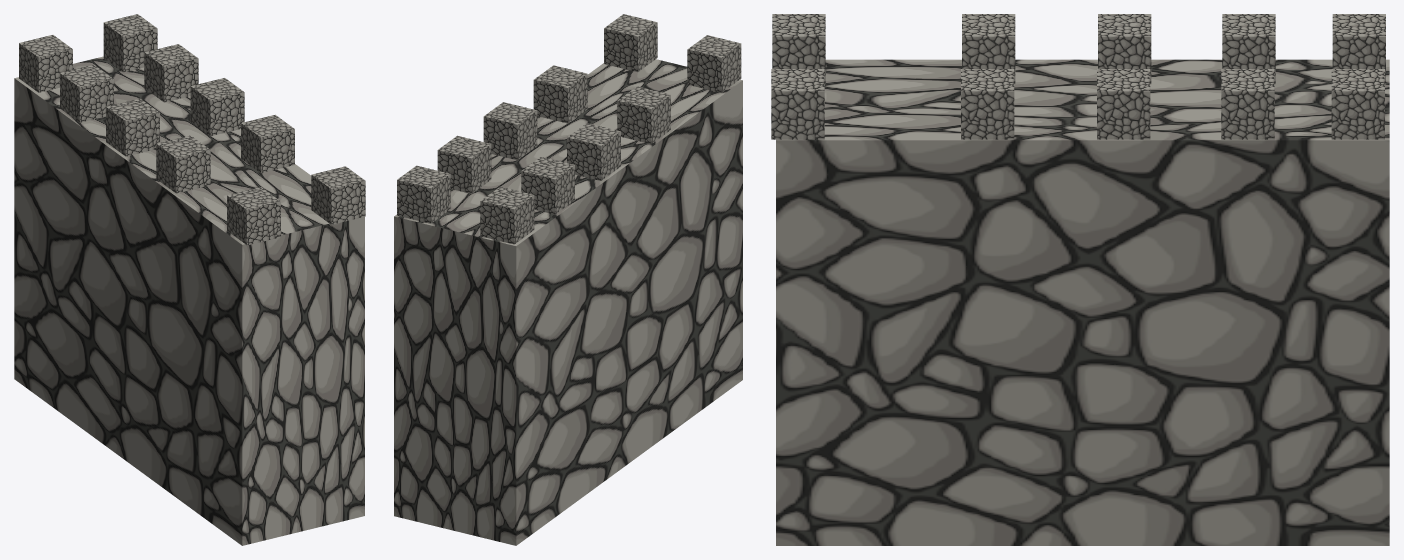
File: Wall.fbx
The picture shows the model from 3 angles, left to right: view 1: azimuth 30°, elevation 25°; view 2: azimuth 150°, elevation 25°; view 3: azimuth 270°, elevation 25°; orthographic projection. The views are drawn at different scales.
Visible parts, largest first — view 1: Cube.001; view 2: Cube.001; view 3: Cube.001.
Part boxes in pixels (x1=…): Cube.001: x1=14, y1=14, x2=365, y2=545; Cube.001: x1=394, y1=14, x2=742, y2=545; Cube.001: x1=771, y1=14, x2=1389, y2=545.
Size of the model in its own units: 232 by 608 by 751.
